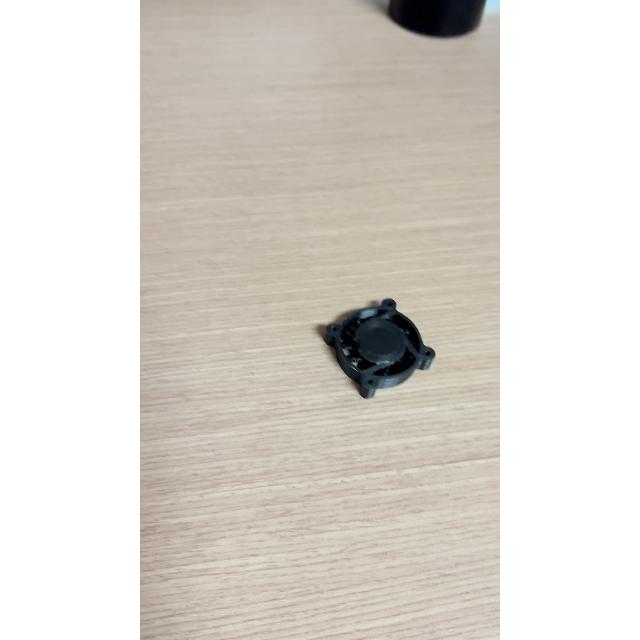Pieza_4: (305, 274, 439, 418)
